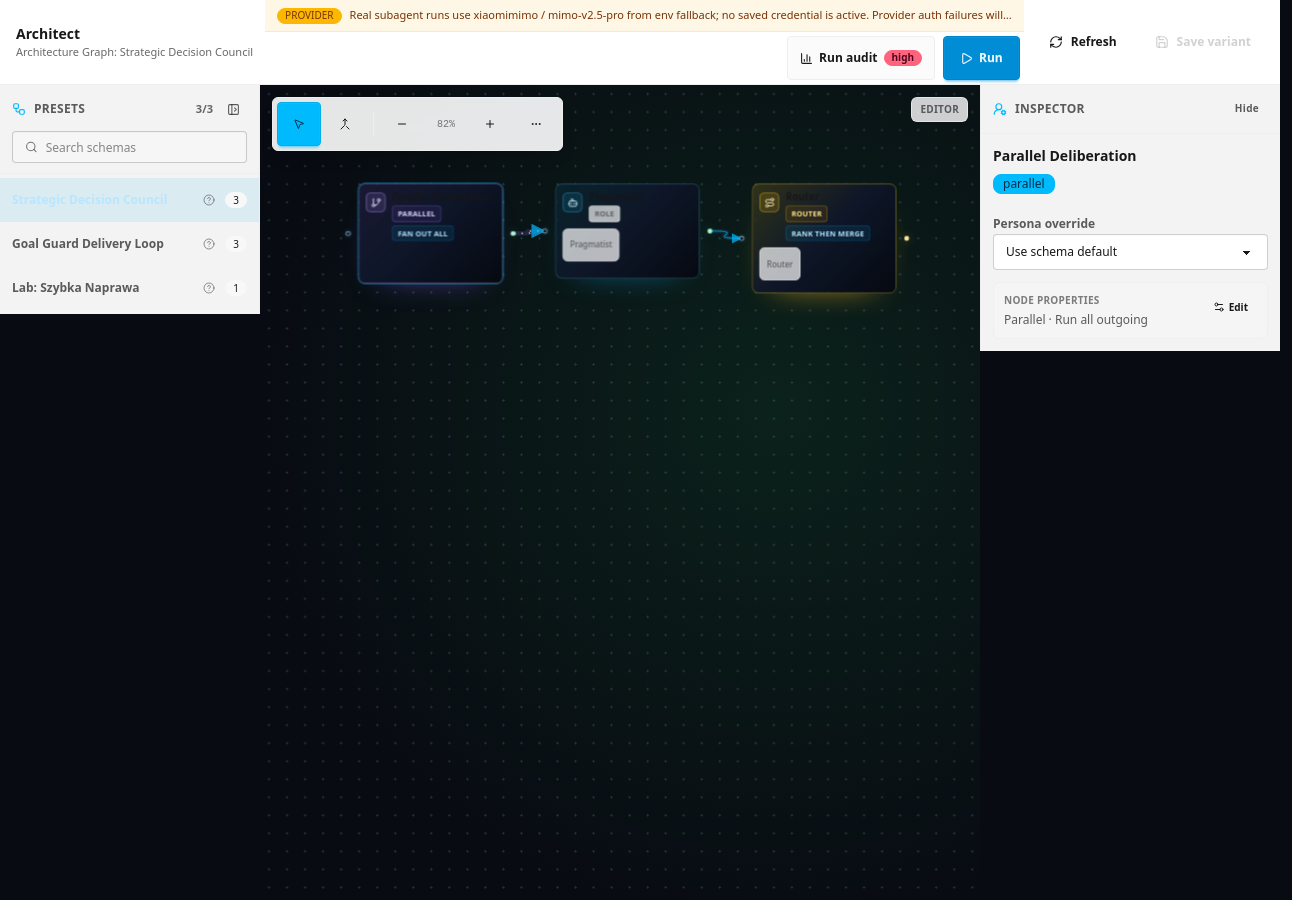
Test: ArchitectPage › filters the registry by schema id tokens so Lab presets are discoverable
Step 1. Type "lab quick" into the field with test id "architect-registry-search" → (140, 147), box [46,132,234,162]
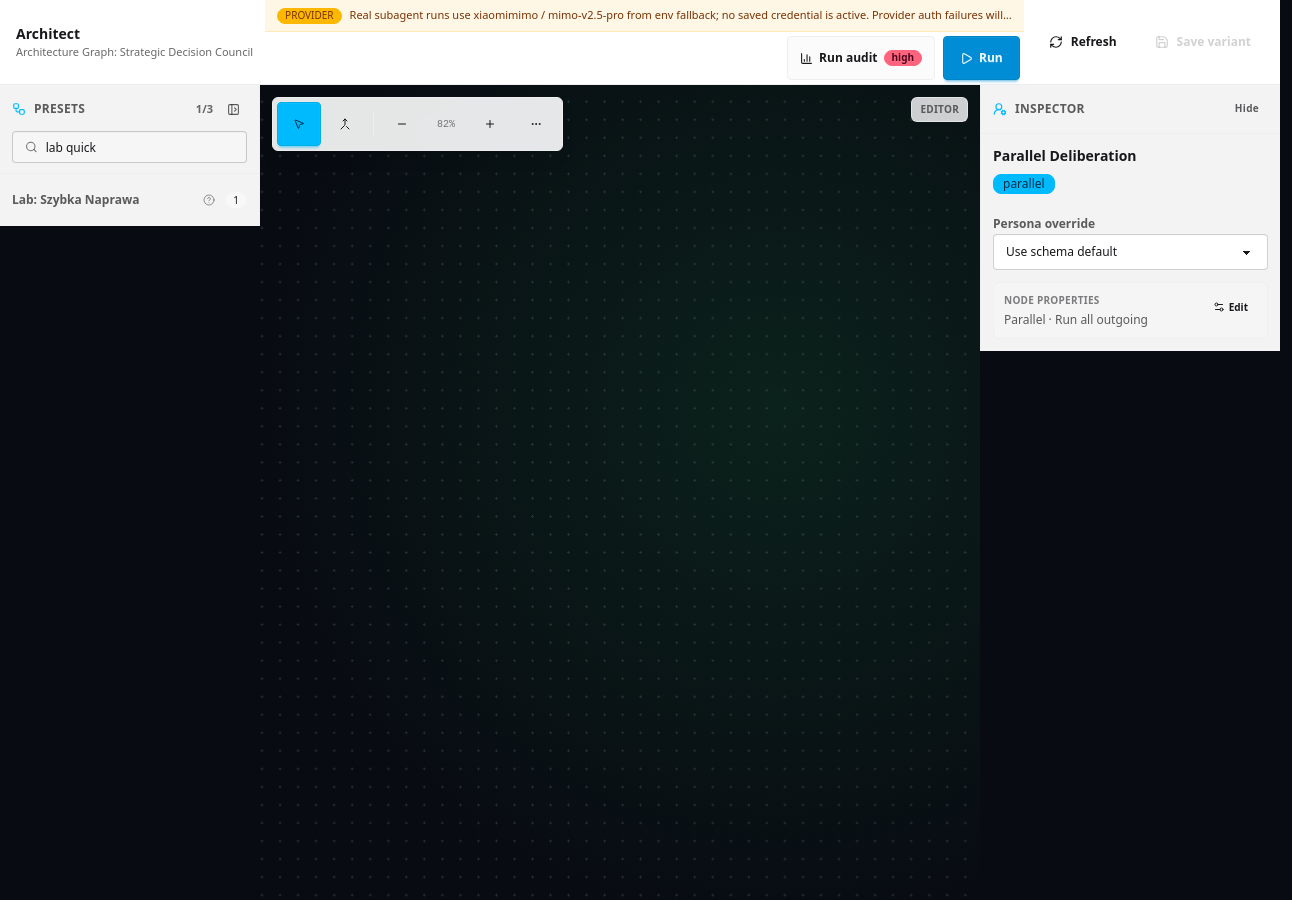
Expected: the button with test id "architect-schema-lab_quick_fix" shows "Lab: Szybka Naprawa", [12,184,247,216]
Expected: the text with test id "architect-registry-count" reads "1/3", [196,102,213,116]
Expected: the button with test id "architect-schema-strategic-decision-council" is gone
